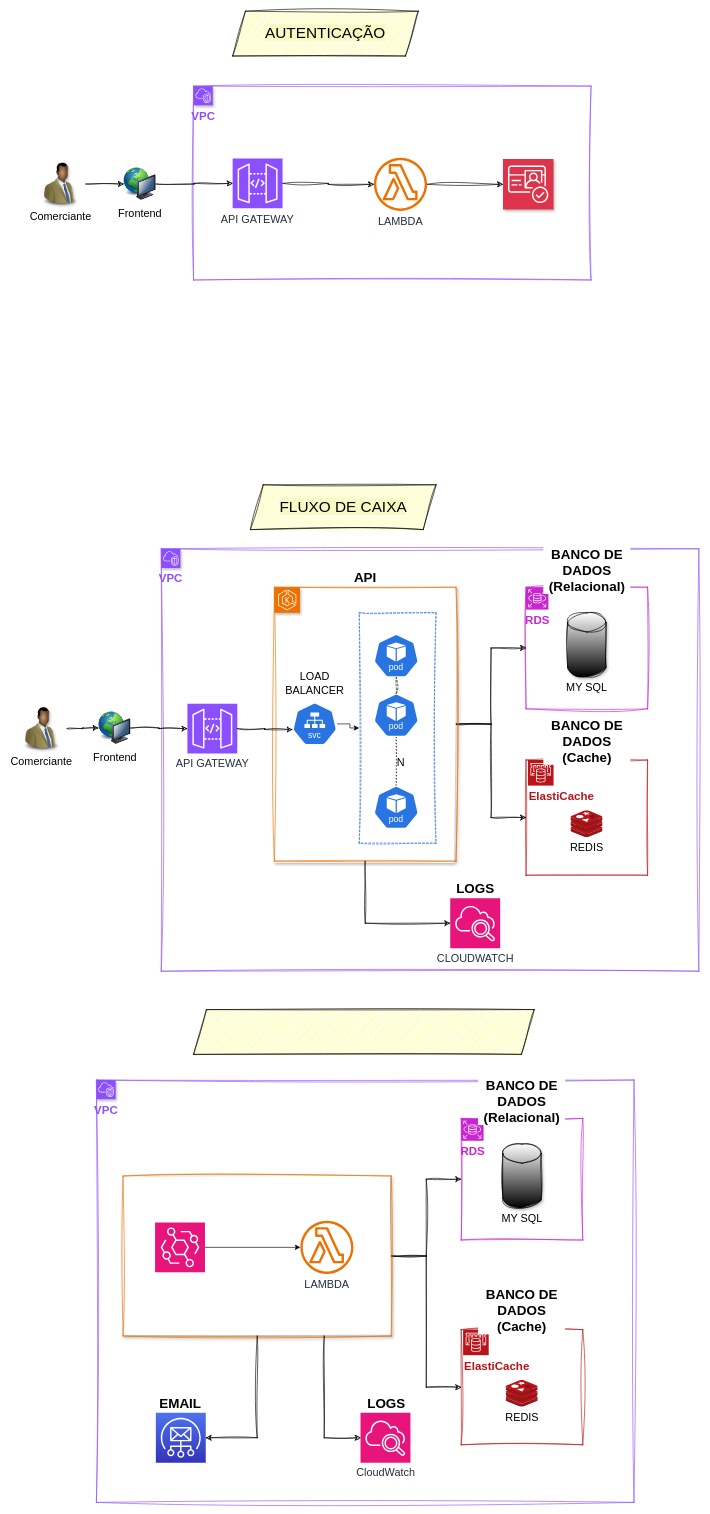
The diagram is 710 pixels wide and 1514 high, and some of its shapes have lost their labels. Here are the shapes that lost their labels. From the top down, the centre of each, then its label:
point (528, 185): COGNITO
point (287, 600): EKS
point (363, 1031): CONSOLIDAÇÃO DOS LANÇAMENTOS
point (179, 1247): EVENTBRIDGE
point (180, 1437): SES
